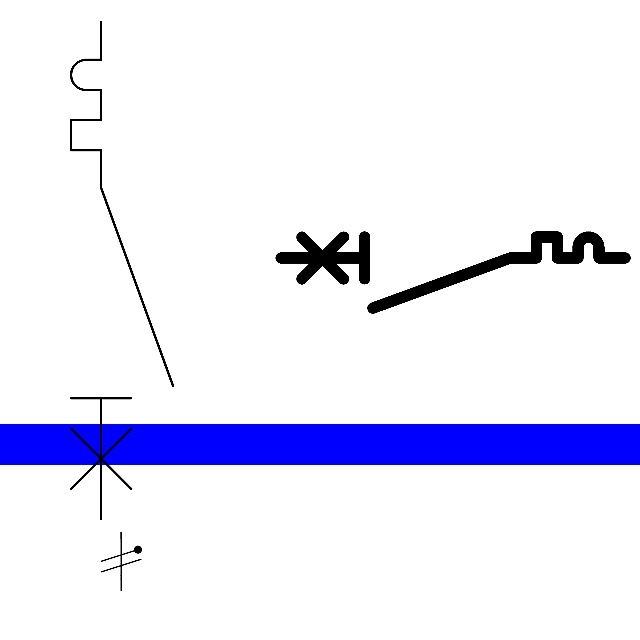interruptor_termomagnetico: (58, 9, 186, 531), (272, 228, 634, 316)
